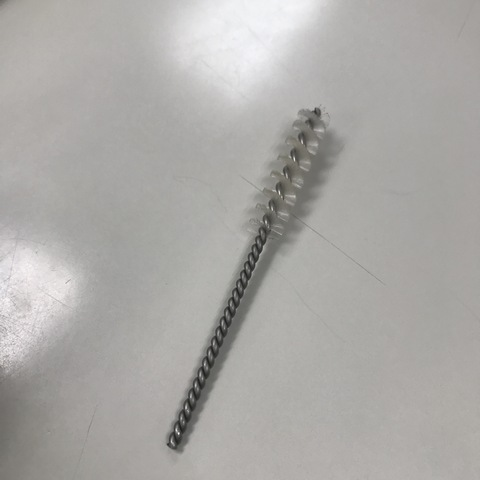Twist Brush-B: (161, 94, 332, 455)
